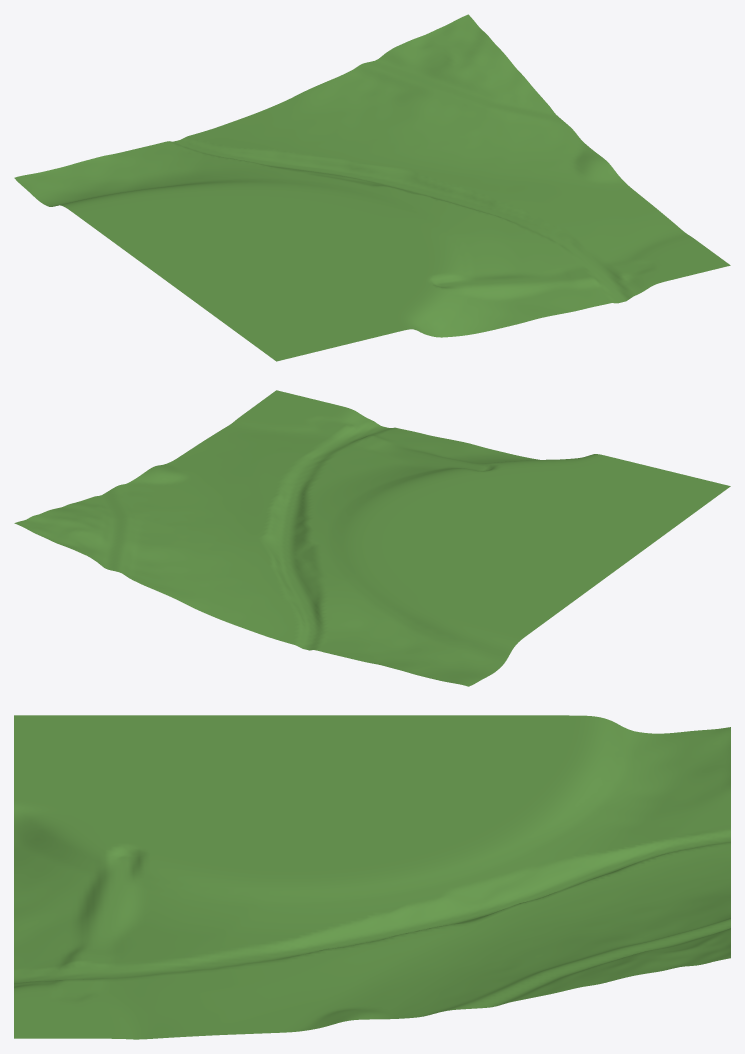
Rendered from SM_Terrain_04_03.fbx.
3 views of the same model, one above another, from view 1: azimuth 30°, elevation 25°; view 2: azimuth 150°, elevation 25°; view 3: azimuth 270°, elevation 25° (orthographic). The views are drawn at different scales.
Visible parts, largest first — view 1: SM_Terrain_04_03; view 2: SM_Terrain_04_03; view 3: SM_Terrain_04_03.
Boxes of the visible parts, box(x1,y1,x2,y2) form: SM_Terrain_04_03: box(14, 14, 730, 361); SM_Terrain_04_03: box(14, 390, 730, 686); SM_Terrain_04_03: box(14, 715, 730, 1039).
Bounding box in the file's own units: 384 × 56 × 384.
